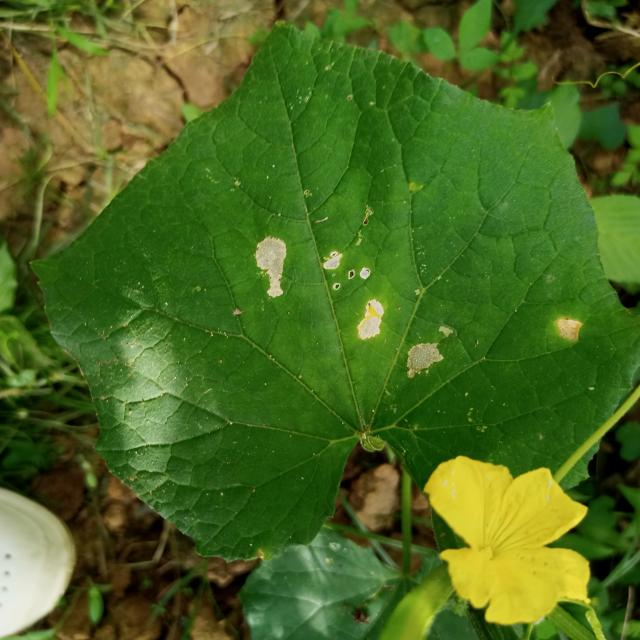disease_cucumber: (255, 234, 453, 379), (556, 314, 582, 343)
